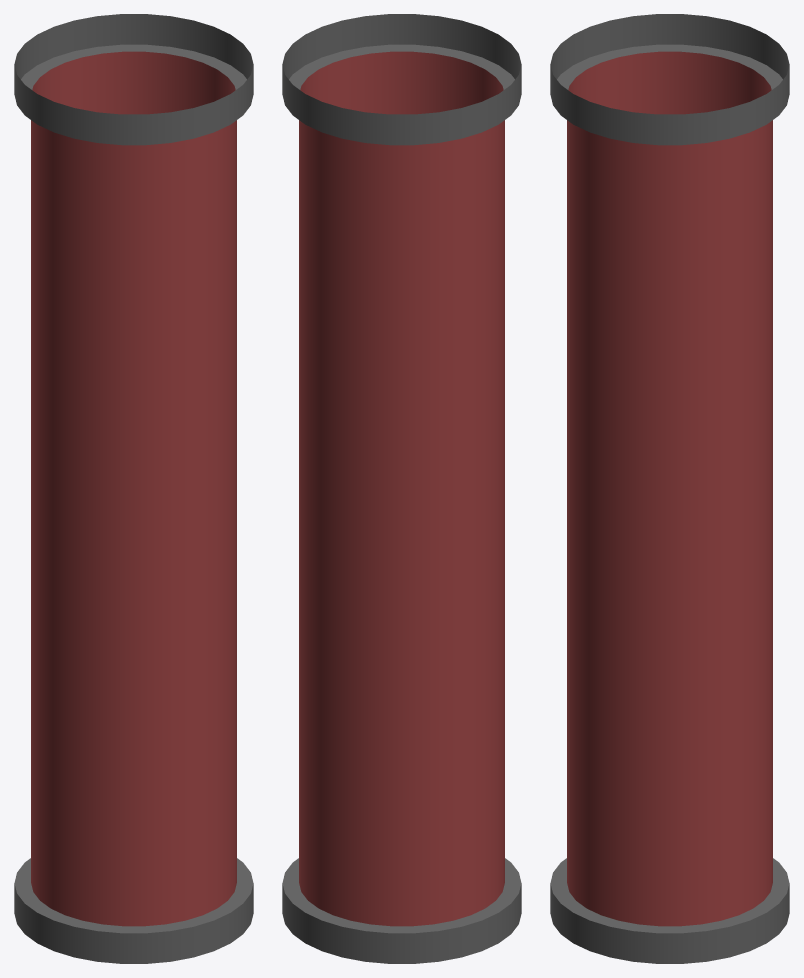
Rendered from Lab 3 Pipe Set Dressing.fbx.
3 views of the same model, side by side, from view 1: azimuth 30°, elevation 25°; view 2: azimuth 150°, elevation 25°; view 3: azimuth 270°, elevation 25° (orthographic).
Visible parts, largest first — view 1: Set Dressing Pipe; view 2: Set Dressing Pipe; view 3: Set Dressing Pipe.
Part boxes in pixels (x1,y1,x2,y2): Set Dressing Pipe: (14,14,253,963); Set Dressing Pipe: (282,14,521,963); Set Dressing Pipe: (550,14,789,963).
Size of the model in its own units: 26.02 by 26.16 by 103.
